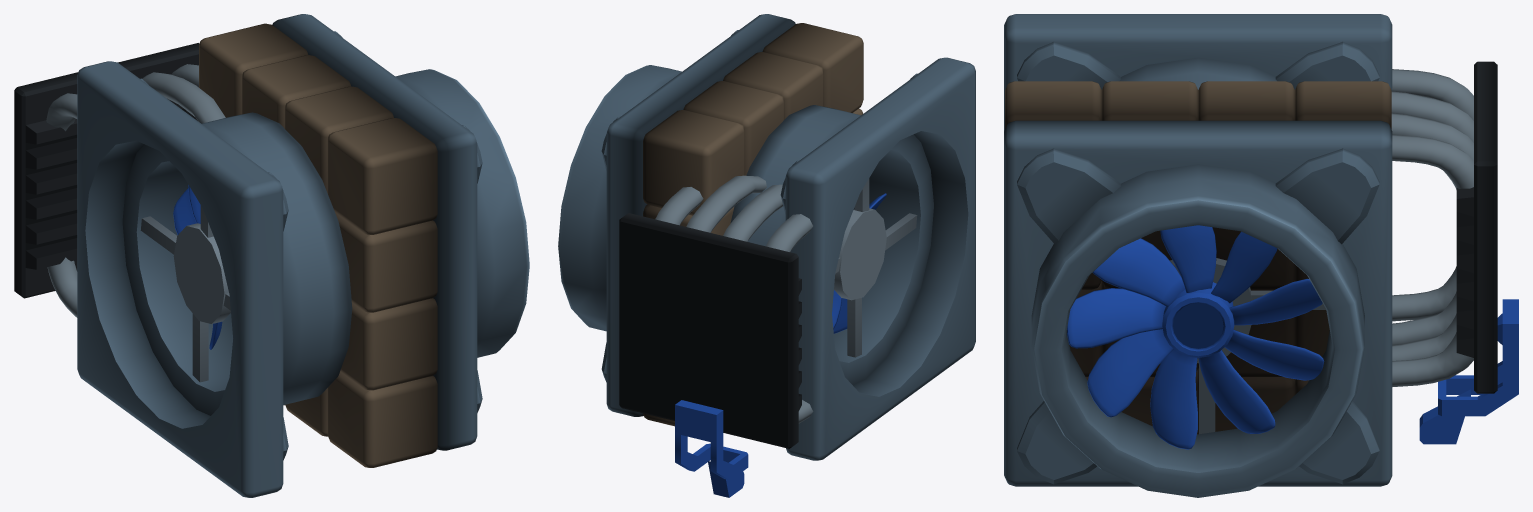
The model's file is Cooling_systems_lvl_06_V01.fbx.
3 views of the same model, side by side, from view 1: azimuth 30°, elevation 25°; view 2: azimuth 150°, elevation 25°; view 3: azimuth 270°, elevation 25° (orthographic). The views are drawn at different scales.
Parts seen in each view (by area): view 1: Body_Cooling, Fan_Cooling_01; view 2: Body_Cooling, Fan_Cooling_01; view 3: Body_Cooling, Fan_Cooling_01.
Boxes of the visible parts, bbox=[...] form: Body_Cooling: bbox=[14, 14, 529, 497]; Fan_Cooling_01: bbox=[173, 185, 222, 349]; Body_Cooling: bbox=[558, 14, 975, 497]; Fan_Cooling_01: bbox=[832, 193, 886, 333]; Body_Cooling: bbox=[1004, 14, 1518, 497]; Fan_Cooling_01: bbox=[1067, 225, 1324, 449].
Bounding box in the file's own units: 41.69 × 43.61 × 52.6.
